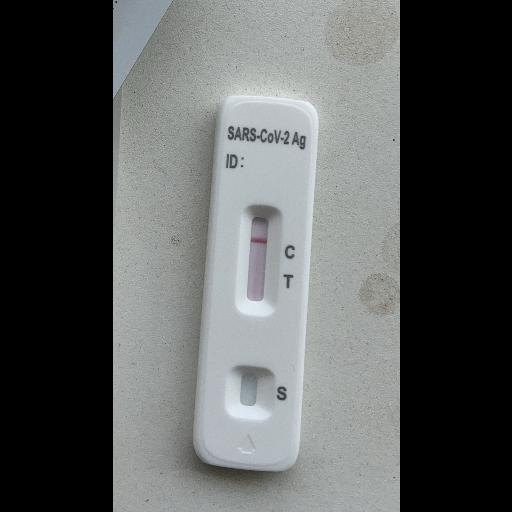Neg: (188, 94, 319, 475)
